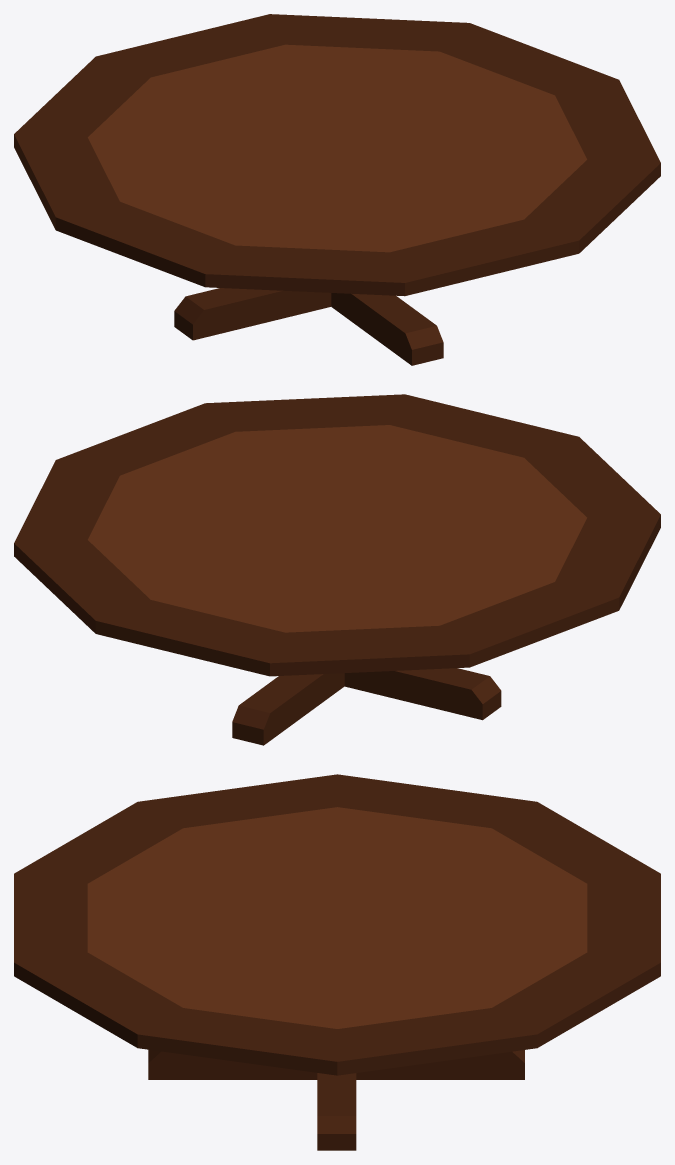
The model's file is Table-Round-Wooden-Classical_02.fbx.
3 renders of one model, top to bottom at view 1: azimuth 30°, elevation 25°; view 2: azimuth 150°, elevation 25°; view 3: azimuth 270°, elevation 25°, orthographic. The views are drawn at different scales.
Parts seen in each view (by area): view 1: Table_Round_02; view 2: Table_Round_02; view 3: Table_Round_02.
Boxes of the visible parts, box(x1,y1,x2,y2) form: Table_Round_02: box(14, 14, 660, 365); Table_Round_02: box(14, 394, 660, 745); Table_Round_02: box(14, 774, 660, 1150).
Bounding box in the file's own units: 3.2 × 0.7993 × 3.04.
